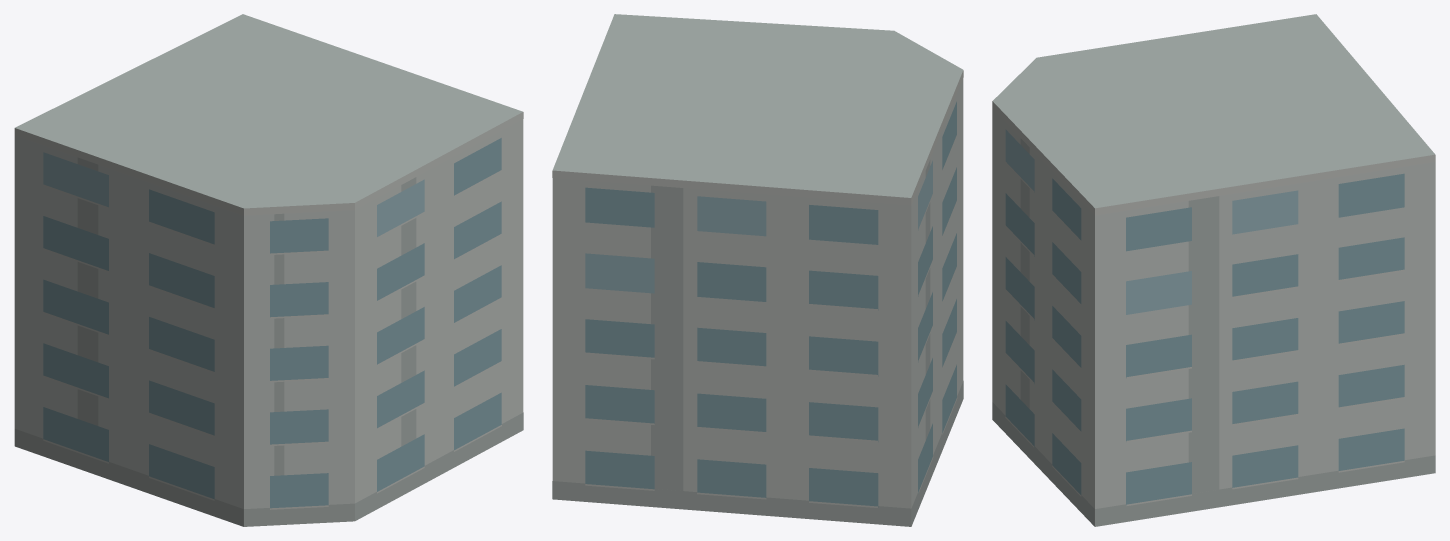
The model's file is survey-upis-32935433.glb.
3 views of the same model, side by side, from view 1: azimuth 30°, elevation 25°; view 2: azimuth 150°, elevation 25°; view 3: azimuth 270°, elevation 25° (orthographic). The views are drawn at different scales.
Visible parts, largest first — view 1: survey-upis-32935433.tmp; view 2: survey-upis-32935433.tmp; view 3: survey-upis-32935433.tmp.
Boxes of the visible parts, box(x1,y1,x2,y2) form: survey-upis-32935433.tmp: box(14, 14, 523, 526); survey-upis-32935433.tmp: box(552, 14, 963, 526); survey-upis-32935433.tmp: box(992, 14, 1435, 526).
Bounding box in the file's own units: 13.88 × 10.6 × 13.37.
